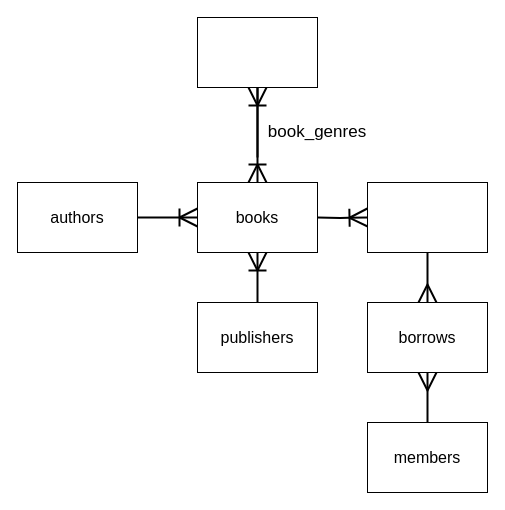
The diagram is 505 pixels wide and 510 high, and some of its shapes have lost their labels. Each missing label, with the centre of its shape:
"book_copies" belongs at point 427,217.
"genres" belongs at point 257,52.
